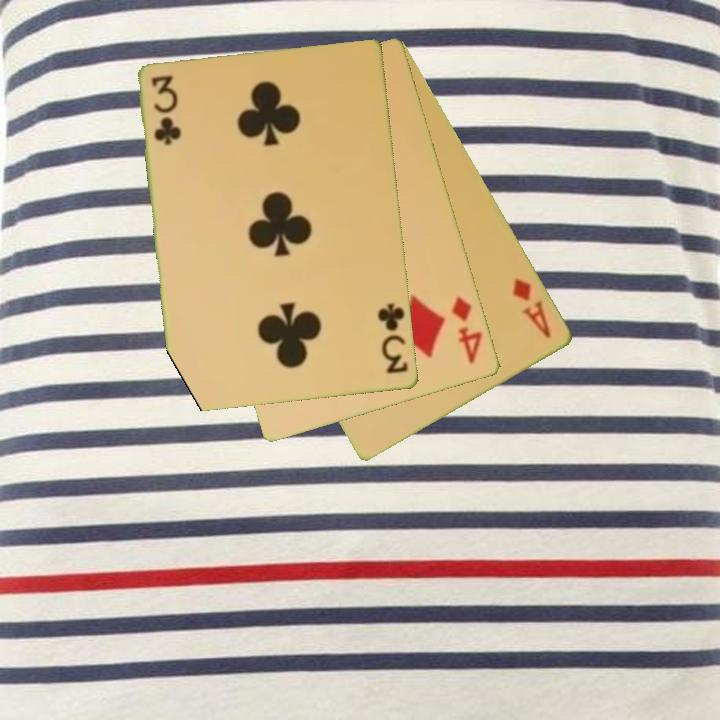3c: (375, 300, 411, 377), (149, 72, 182, 148)
4d: (448, 293, 486, 367)
Ad: (509, 274, 555, 342)
